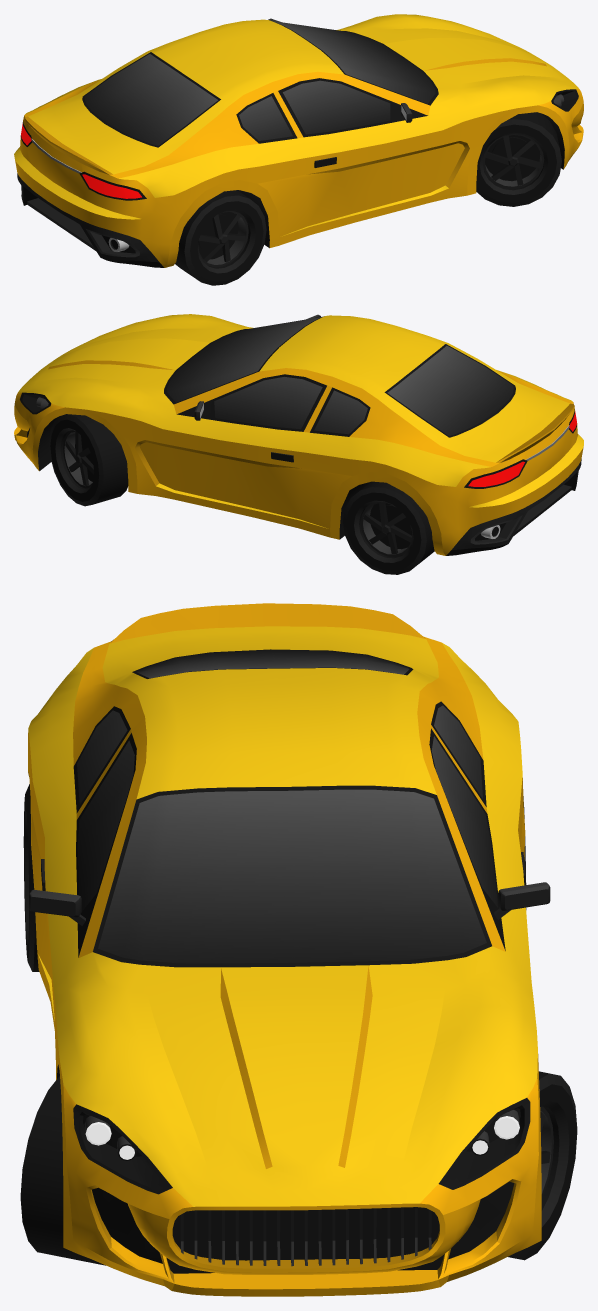
Rendered from Car_186.glb.
The picture shows the model from 3 angles, top to bottom: view 1: azimuth 30°, elevation 25°; view 2: azimuth 150°, elevation 25°; view 3: azimuth 270°, elevation 25°; orthographic projection. The views are drawn at different scales.
Visible parts, largest first — view 1: Car_186, wheel_0_Car_186_Wheel_1R, wheel_2_Car_186_Wheel_3R; view 2: Car_186, wheel_3_Car_186_Wheel_4L, wheel_1_Car_186_Wheel_2L; view 3: Car_186, wheel_0_Car_186_Wheel_1R, wheel_1_Car_186_Wheel_2L, wheel_2_Car_186_Wheel_3R.
Boxes of the visible parts, x1,y1,x2,y2 form: Car_186: (14, 14, 583, 267); wheel_0_Car_186_Wheel_1R: (476, 112, 561, 206); wheel_2_Car_186_Wheel_3R: (175, 190, 266, 285); Car_186: (14, 314, 583, 555); wheel_3_Car_186_Wheel_4L: (343, 481, 434, 574); wheel_1_Car_186_Wheel_2L: (49, 414, 128, 506); Car_186: (28, 603, 550, 1296); wheel_0_Car_186_Wheel_1R: (20, 1076, 105, 1265); wheel_1_Car_186_Wheel_2L: (508, 1071, 577, 1260); wheel_2_Car_186_Wheel_3R: (23, 784, 39, 971).
Size of the model in its own units: 4.41 by 1.37 by 2.09.
Materials: 2 (2 with a texture image).
